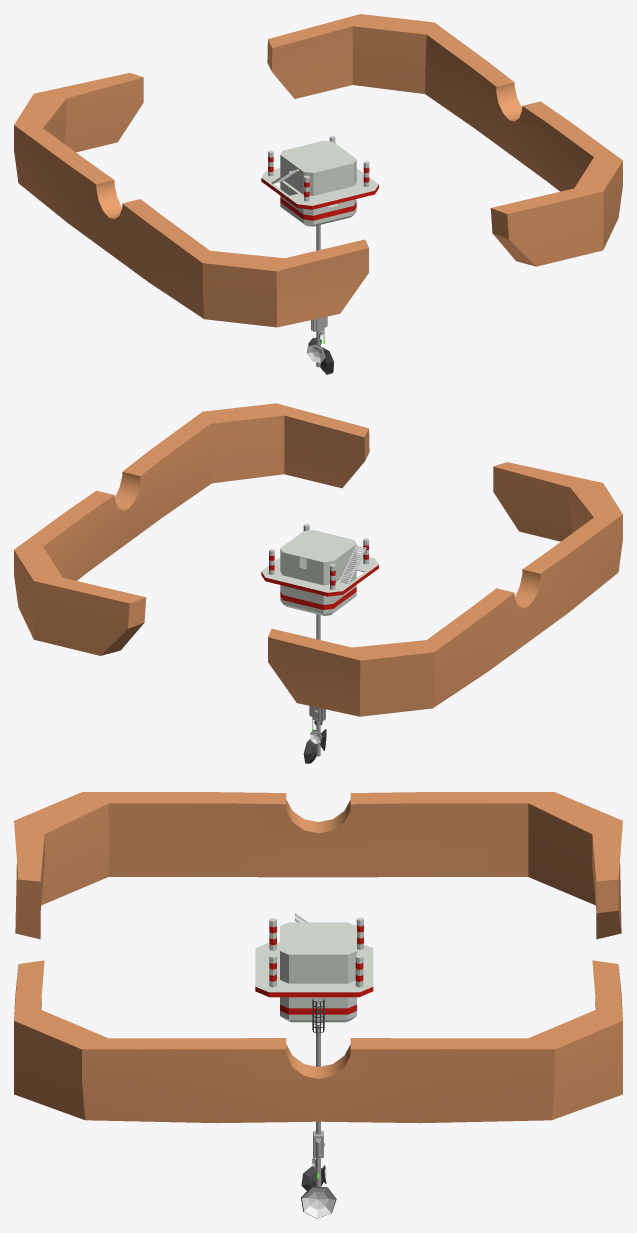
The model's file is Compound.fbx.
3 views of the same model, one above another, from view 1: azimuth 30°, elevation 25°; view 2: azimuth 150°, elevation 25°; view 3: azimuth 270°, elevation 25° (orthographic). The views are drawn at different scales.
Visible parts, largest first — view 1: Wall, Compound; view 2: Wall, Compound; view 3: Wall, Compound.
Boxes of the visible parts, bbox=[...] form: Wall: bbox=[14, 14, 622, 327]; Compound: bbox=[261, 135, 378, 374]; Wall: bbox=[14, 403, 622, 716]; Compound: bbox=[261, 524, 378, 763]; Wall: bbox=[14, 792, 622, 1123]; Compound: bbox=[255, 917, 373, 1218].
Size of the model in its own units: 10988 by 10988 by 5838.
